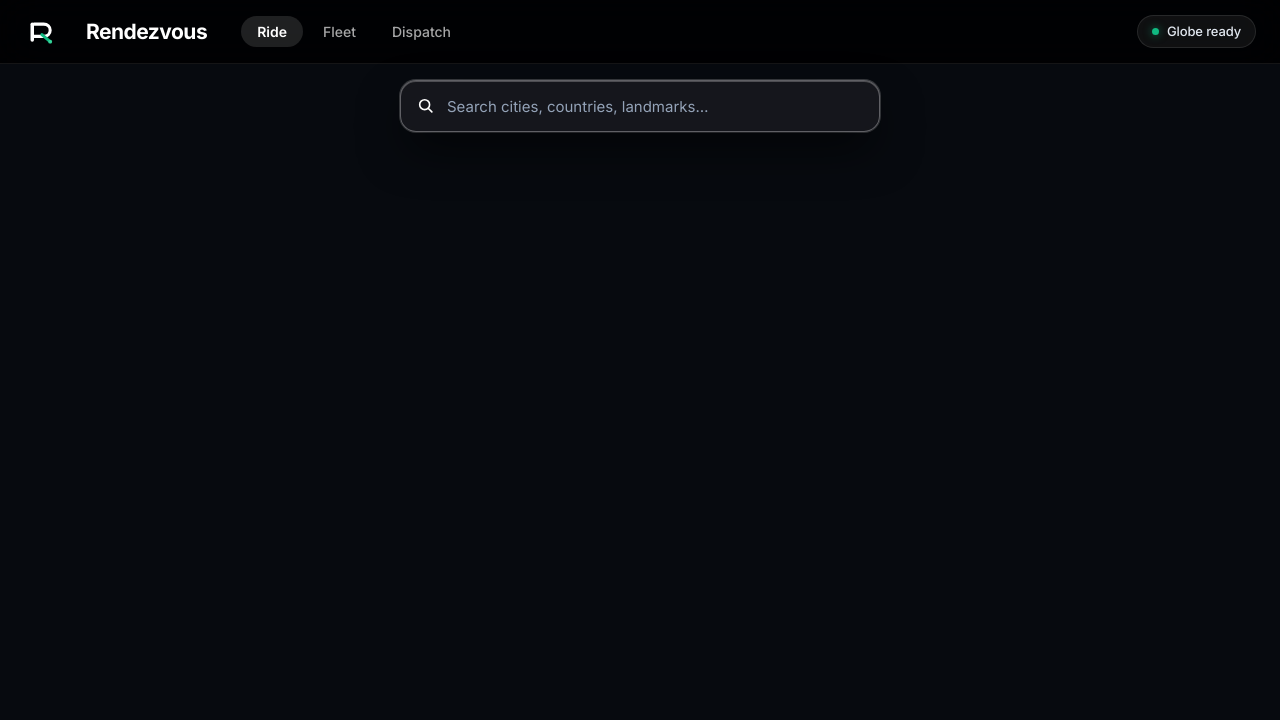
it: App integrated dispatch & map flows (Phase 7E.3) › previews road route, distance, and fare estimates when both pickup and destination are selected (Phase 11.1)
The width and height of the screenshot is (1280, 720).
Type "Paris" into the dropdown at (655, 106), box [447,96,863,116]
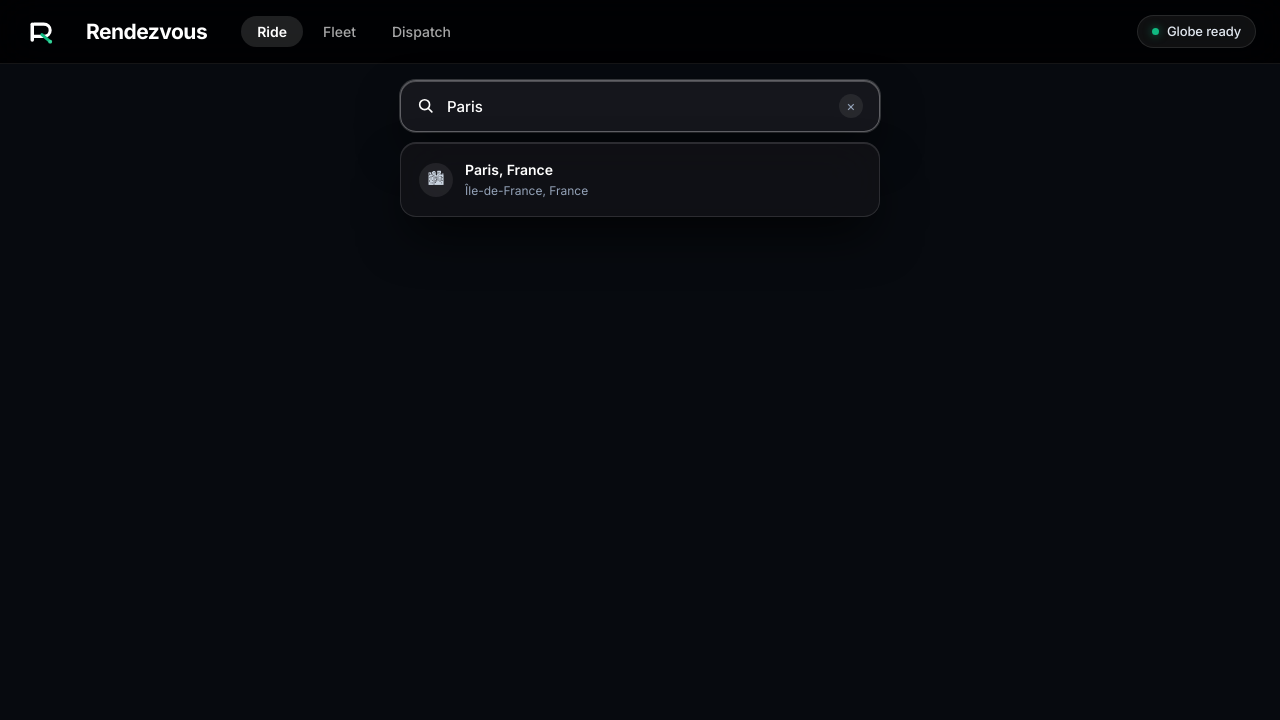
Check: the option "🏙 Paris, France Île-de-France, France" is shown, box [419,161,588,198]
Press Enter in the dropdown, box [447,96,827,116]
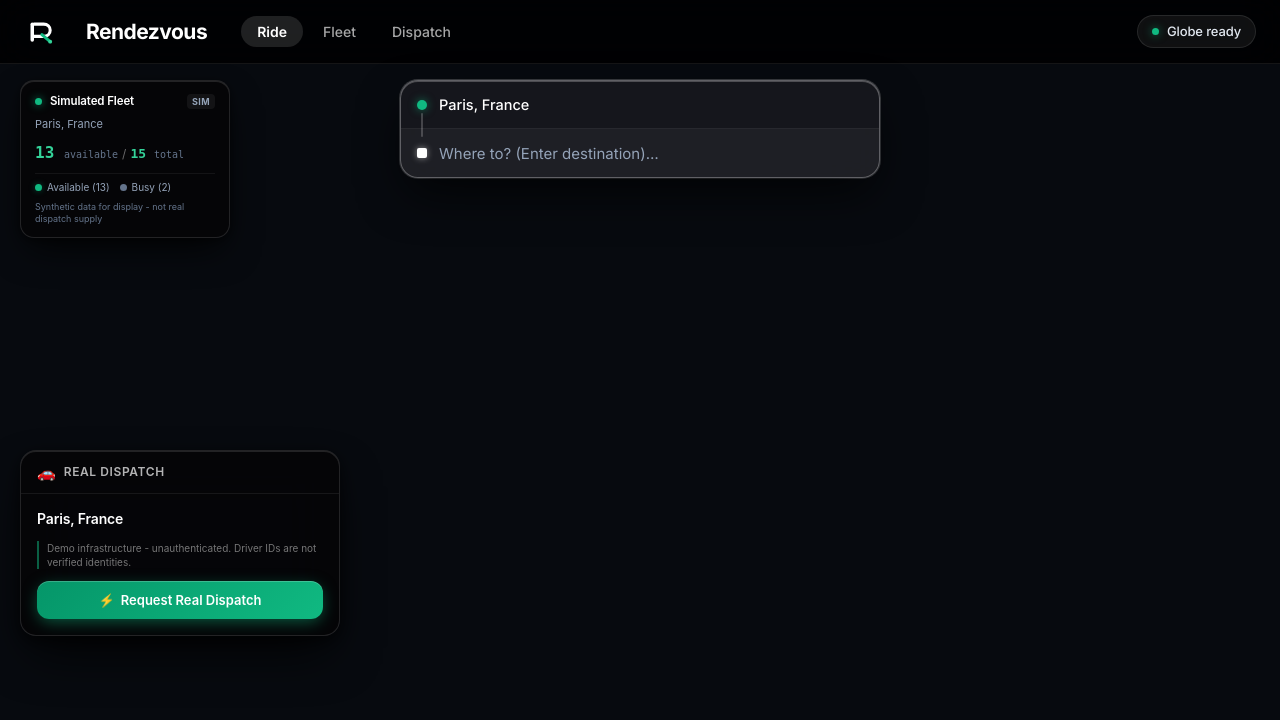
Type "Eiffel" into the dropdown named "Search destination" at (651, 153), box [439,142,863,164]
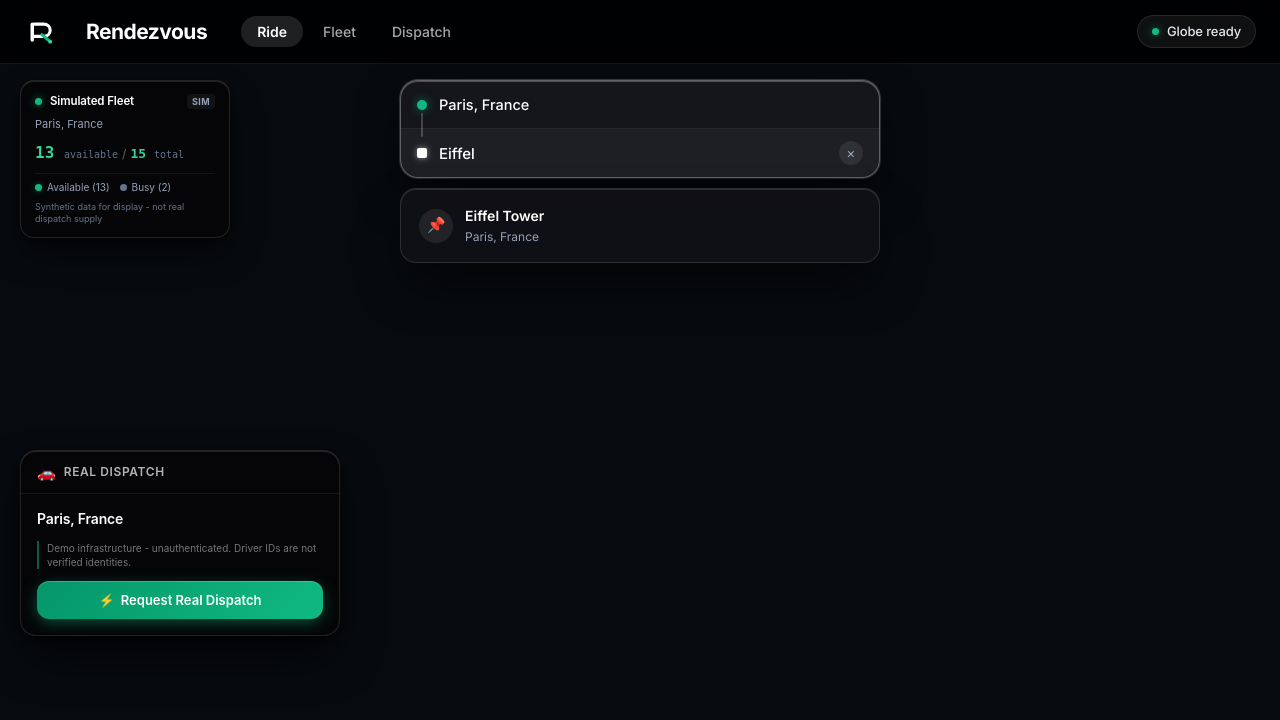
Check: the option "📌 Eiffel Tower Paris, France" is shown, box [419,207,544,244]
Press Enter in the dropdown named "Search destination", box [439,142,827,164]
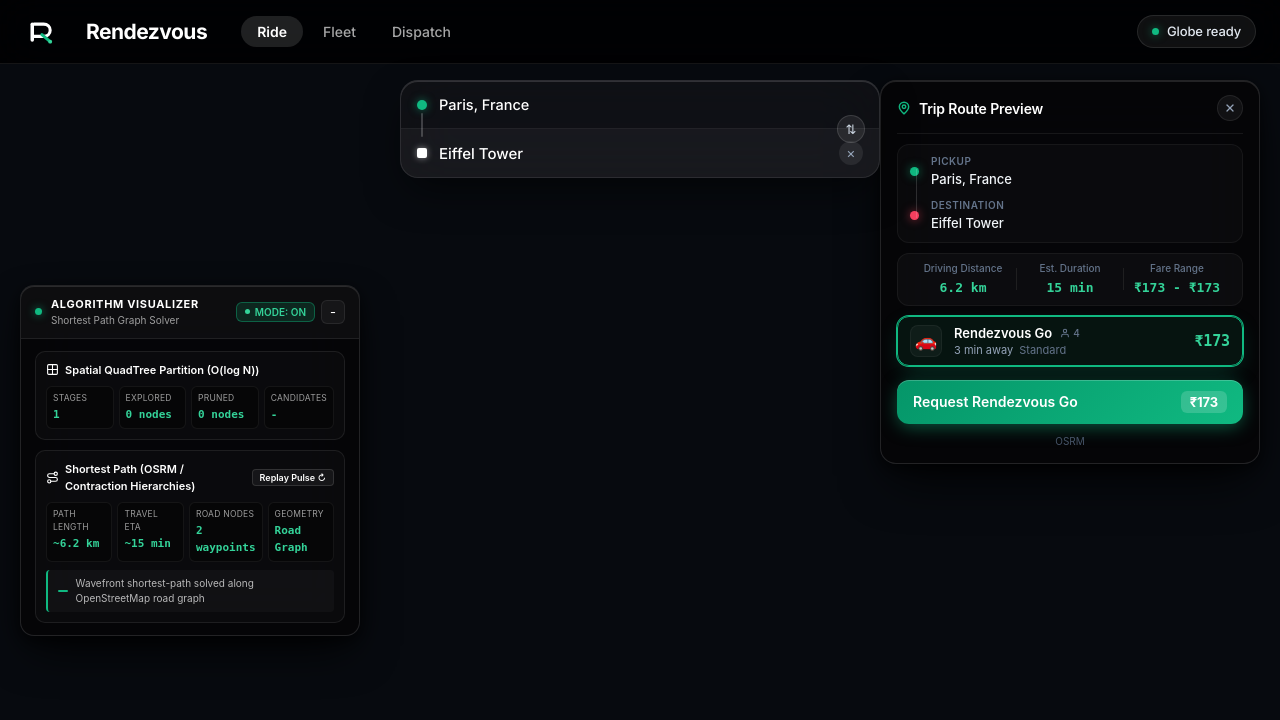
Check: the text "Trip Route Preview" is shown, box [919,98,1043,118]
Check: the text "6.2 km" is shown, box [940,278,986,298]
Check: the text "15 min" is shown, box [1046,278,1094,298]
Click the button "Request Rendezvous Go ₹173" at (1070, 402), box [897,380,1243,424]
Wait 60000 ms
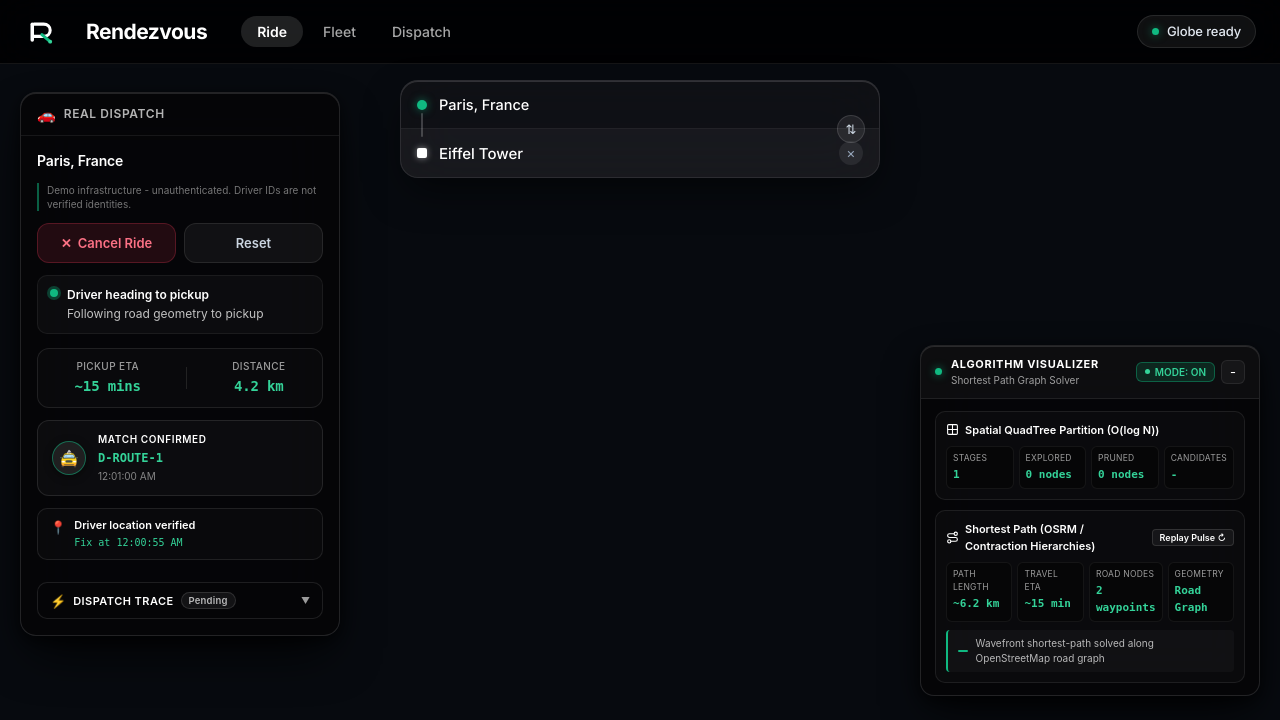
Check: the text "D-ROUTE-1" is shown, box [98,451,163,465]
